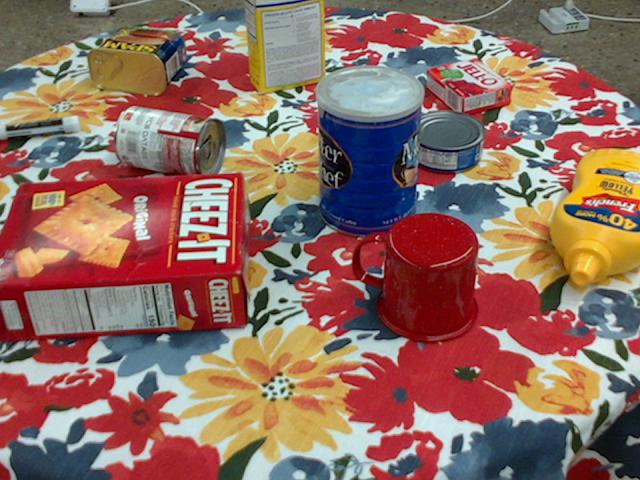cracker_box: (0, 173, 247, 342)
gelatin_box: (426, 60, 511, 117)
large_marker: (0, 115, 80, 139)
master_chef_can: (315, 65, 423, 239)
mug: (353, 212, 478, 343)
mustard_bottle: (550, 147, 639, 284)
potted_meat_can: (88, 26, 186, 94)
sugar_box: (246, 0, 325, 91)
tomato_soup_can: (113, 106, 224, 179)
tuna_fish_can: (409, 111, 486, 173)
